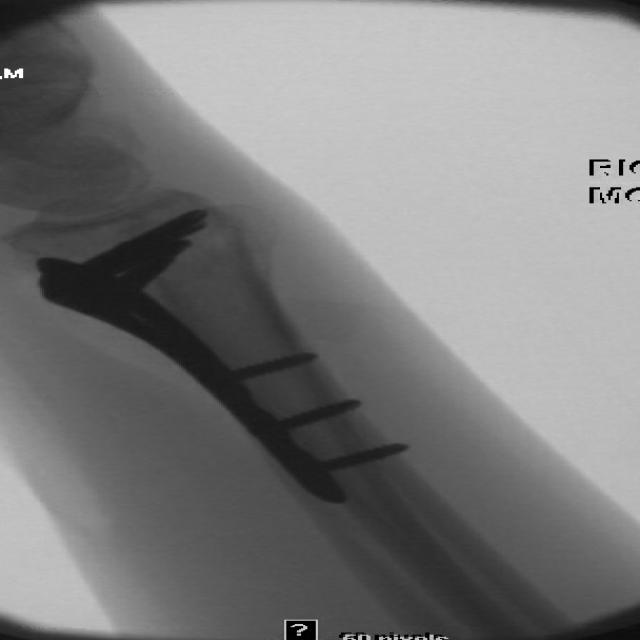x-ray: (17, 204, 459, 519)
